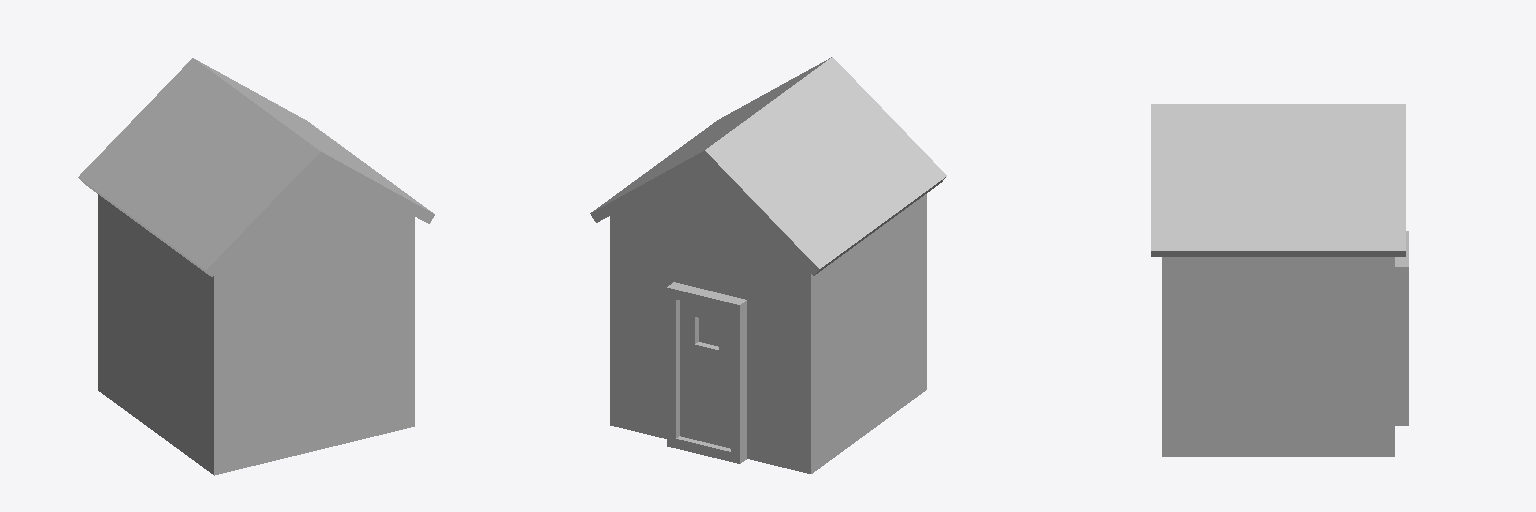
File: Level4.obj
3 renders of one model, left to right at view 1: azimuth 30°, elevation 25°; view 2: azimuth 150°, elevation 25°; view 3: azimuth 270°, elevation 25°, orthographic.
Visible parts, largest first — view 1: block_35, roof_36; view 2: block_35, roof_36, door_square_37; view 3: block_35, roof_36, door_square_37.
Part boxes in pixels (x1,y1,x2,y2): block_35: (98, 194, 414, 475); roof_36: (78, 58, 434, 276); block_35: (610, 194, 926, 473); roof_36: (590, 57, 946, 275); door_square_37: (667, 282, 746, 463); block_35: (1162, 257, 1394, 456); roof_36: (1151, 104, 1405, 256); door_square_37: (1395, 231, 1408, 425).
Bounding box in the file's own units: 1.14 × 1.44 × 1.11.